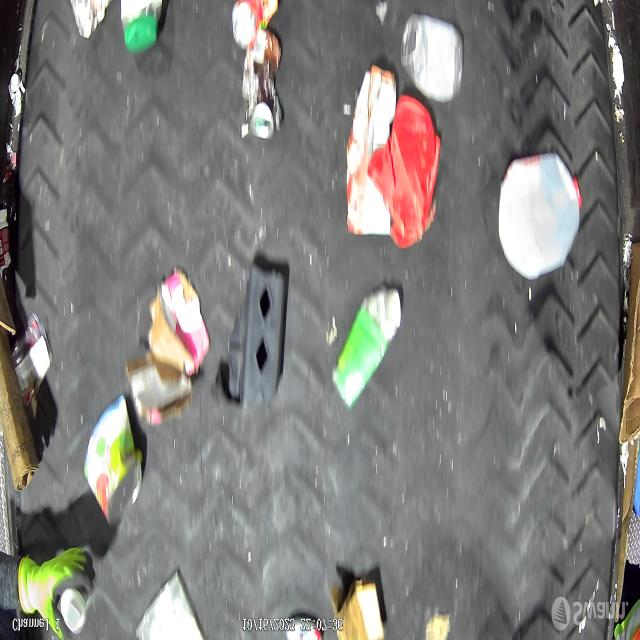can: (85, 402, 144, 526), (242, 28, 284, 140)
milk_jug: (500, 149, 584, 279)
non_white_jug: (368, 92, 442, 252)
